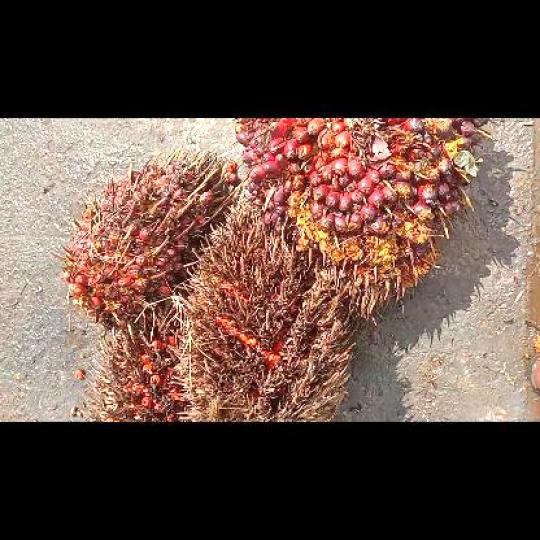masak: (235, 118, 489, 323), (60, 147, 241, 341)
terlalu masak: (167, 198, 355, 420), (80, 308, 190, 422)
